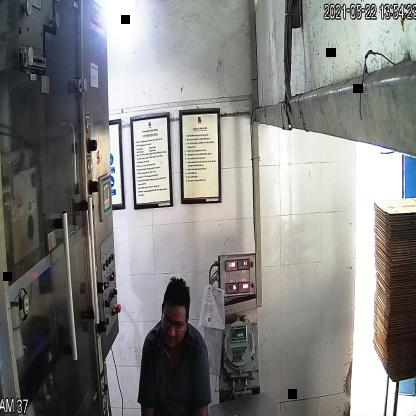goggles: (160, 306, 188, 338)
